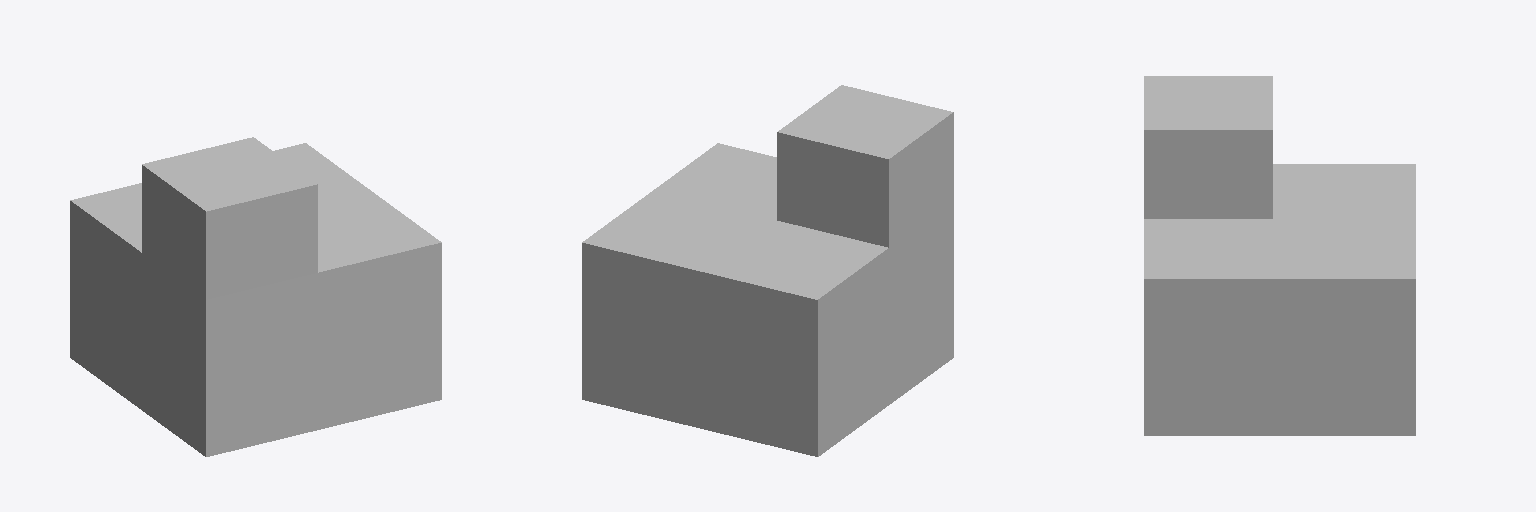
File: hill_corner_outer_00.obj
The picture shows the model from 3 angles: view 1: azimuth 30°, elevation 25°; view 2: azimuth 150°, elevation 25°; view 3: azimuth 270°, elevation 25°; orthographic projection.
Size of the model in its own units: 2.05 by 2.04 by 2.05.